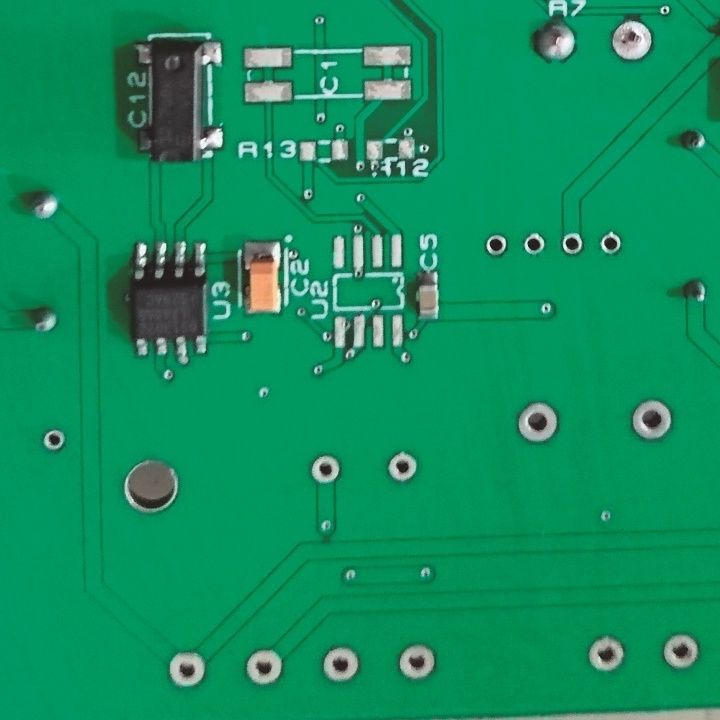F: (607, 13, 659, 64), (516, 397, 562, 445), (630, 397, 675, 445), (318, 645, 363, 689), (584, 632, 629, 675), (659, 629, 701, 674), (166, 651, 208, 695), (244, 648, 285, 689), (396, 643, 436, 683), (381, 449, 421, 486), (310, 454, 343, 490), (39, 426, 69, 457), (559, 229, 587, 262), (519, 229, 548, 258), (598, 229, 624, 261), (481, 232, 513, 258)
